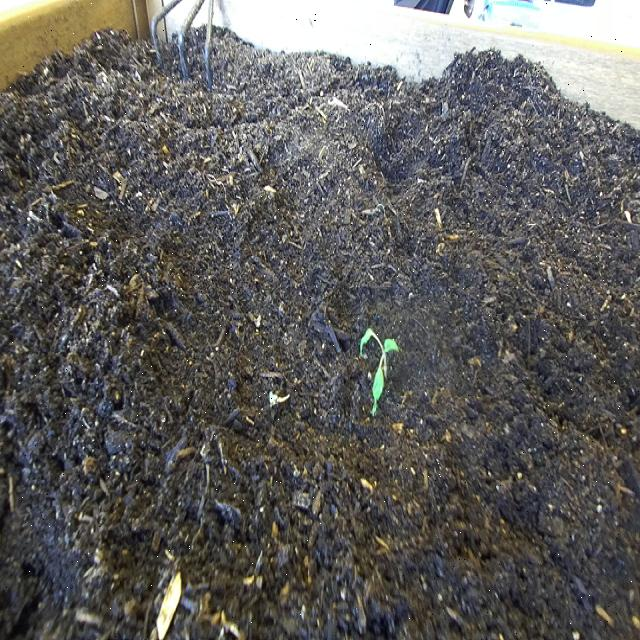Healthy: (351, 305, 406, 431)
